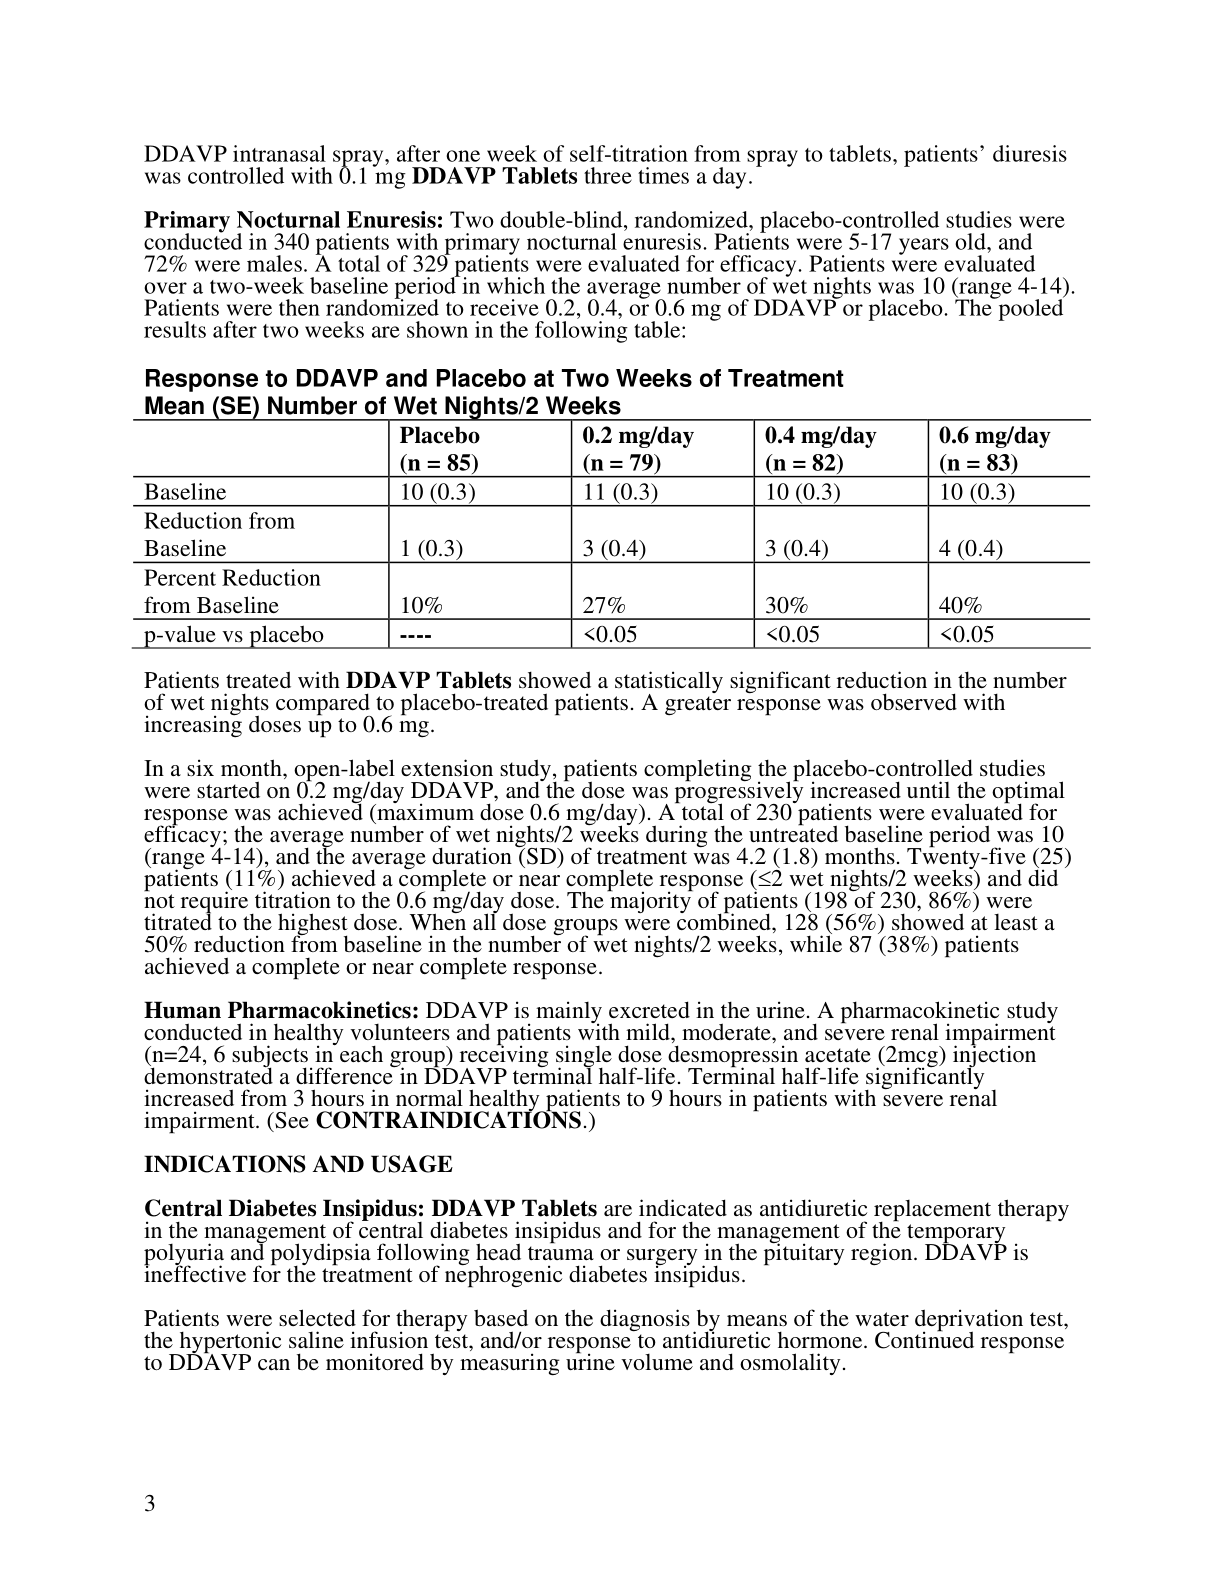partial_lined: (131, 417, 1094, 651)
